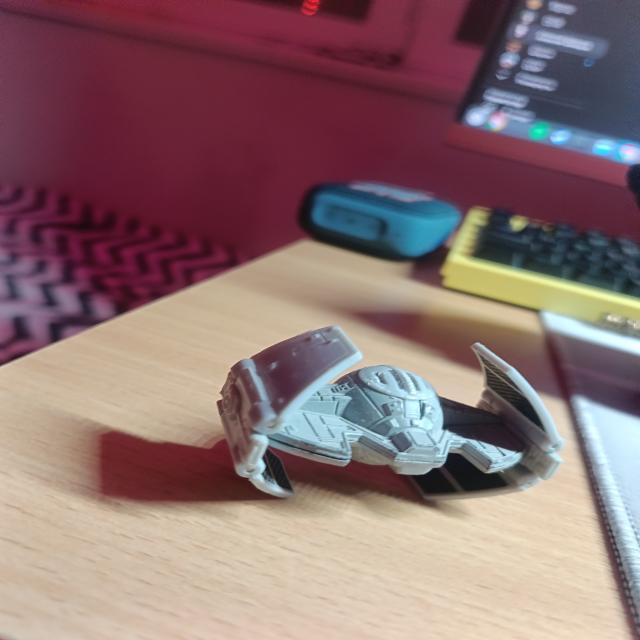tie fighter: (218, 326, 564, 499)
